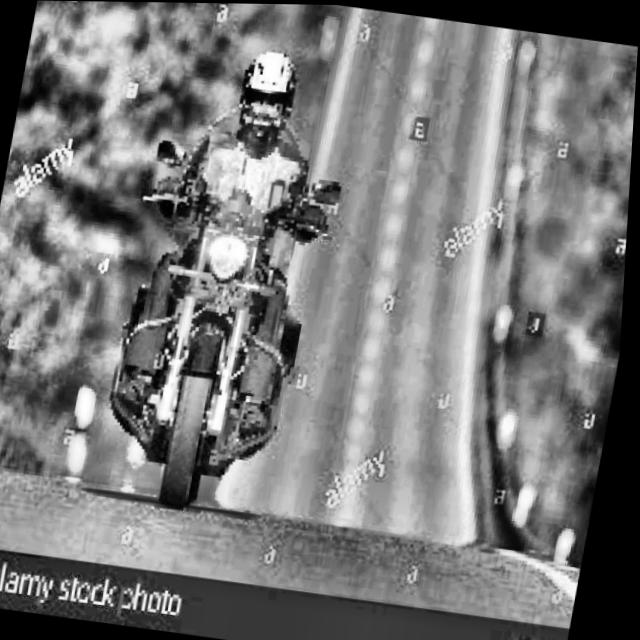motorcycle: (53, 132, 366, 517)
